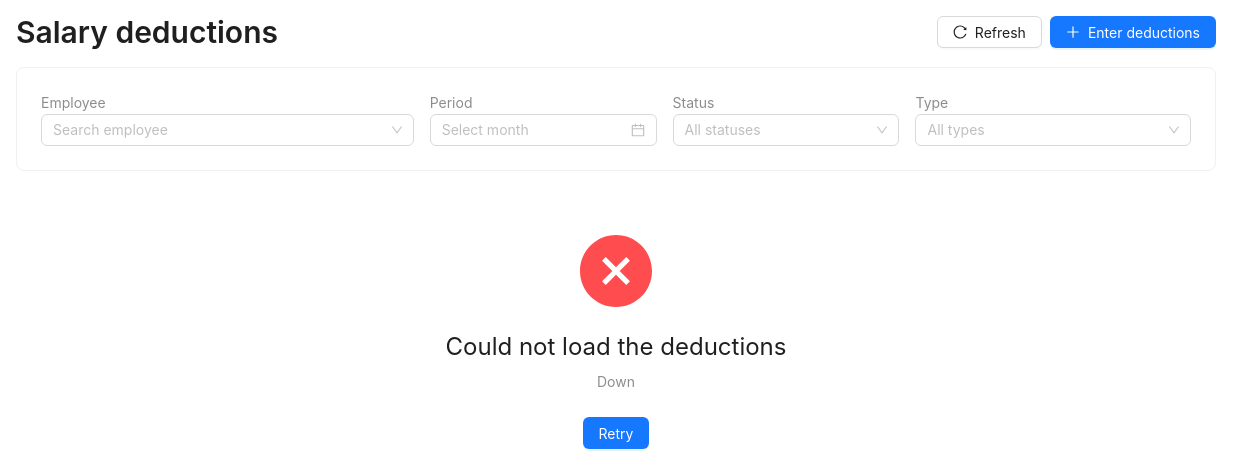
Test: DeductionList (W-47.4 §7) › a load error shows Retry and no rows
Check: the text "Down" is shown, box [597,373,635,390]
Check: the text "Asha Rao" is not shown
Click the button "Retry": [616, 433] box [582,417,649,449]
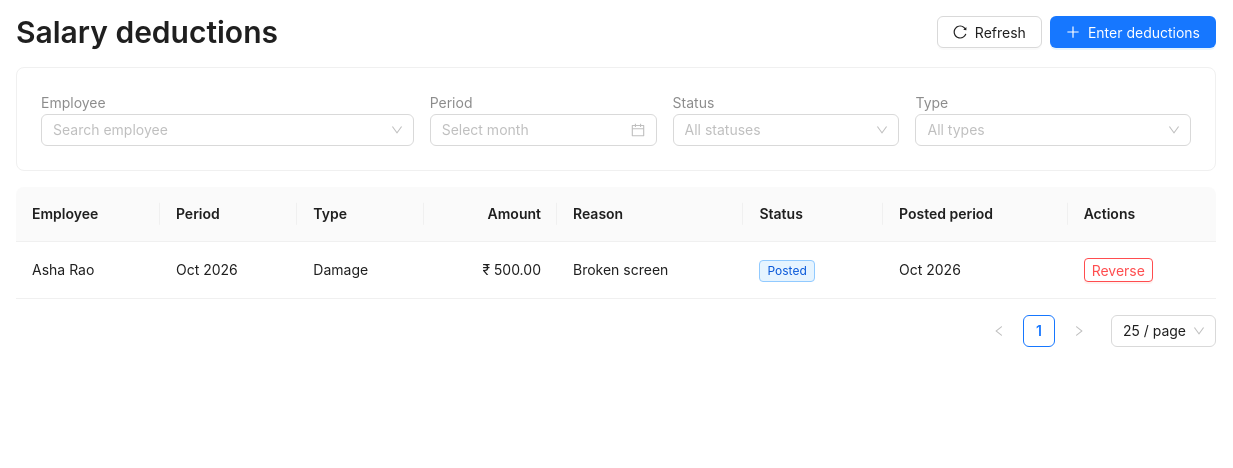
Check: the text "Asha Rao" is shown, box [16,242,160,299]
